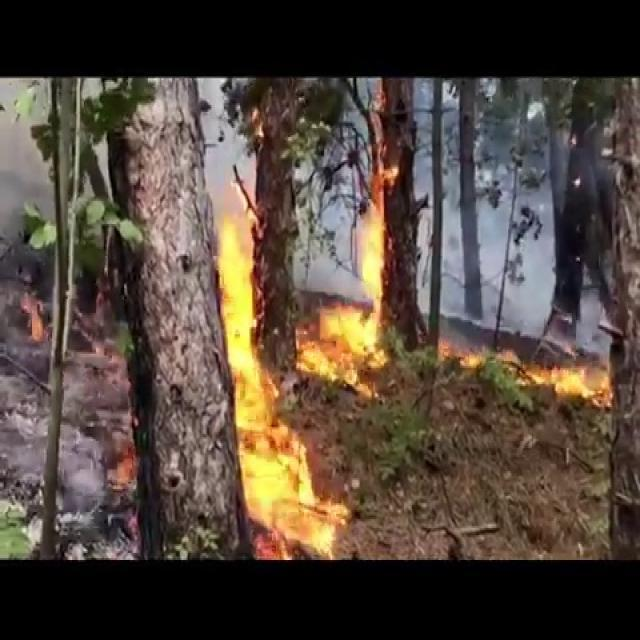Fire: (206, 187, 342, 556), (308, 156, 398, 400), (512, 348, 611, 413)
